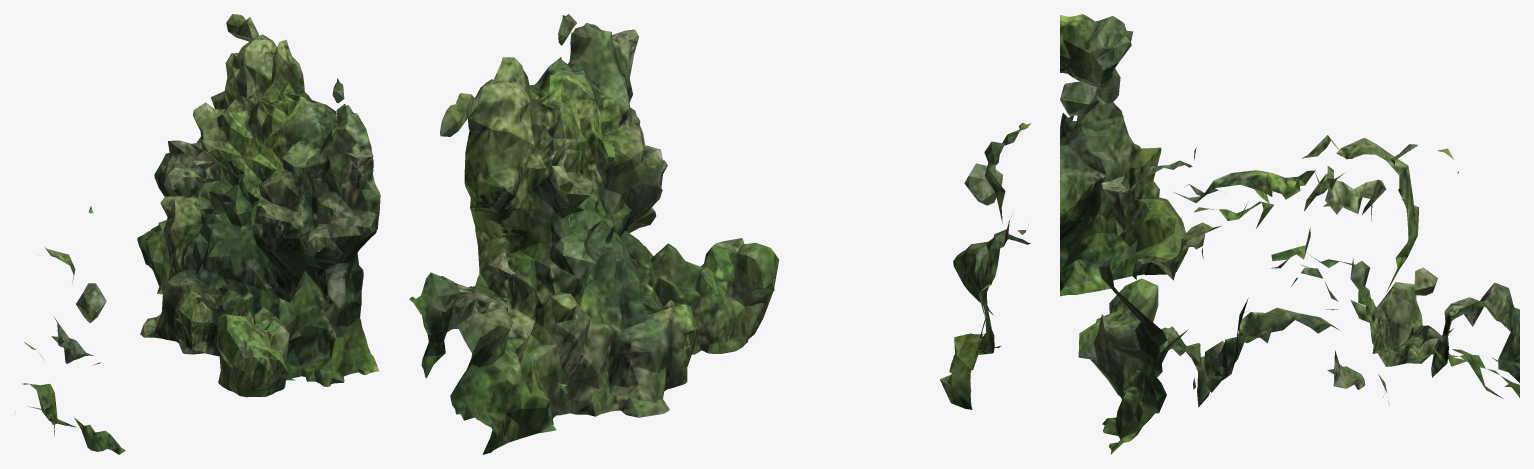
3 renders of one model, left to right at view 1: azimuth 30°, elevation 25°; view 2: azimuth 150°, elevation 25°; view 3: azimuth 270°, elevation 25°, orthographic. The views are drawn at different scales.
Size of the model in its own units: 26.11 by 19.76 by 26.11.
4 materials, 4 textured.
